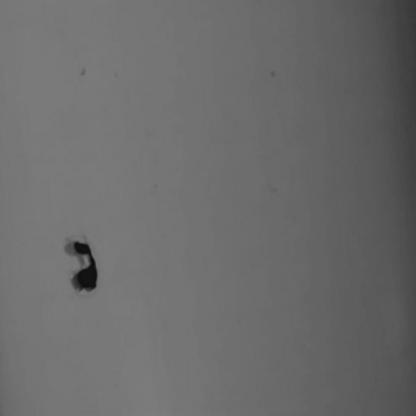kongdong: (57, 231, 119, 307)
